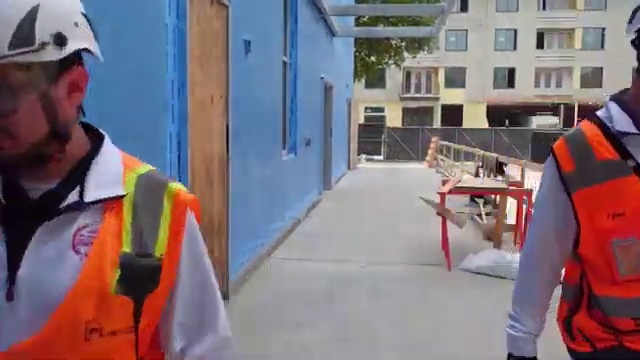helmet: (1, 1, 111, 59)
jacket: (1, 148, 213, 360), (537, 101, 640, 360)
